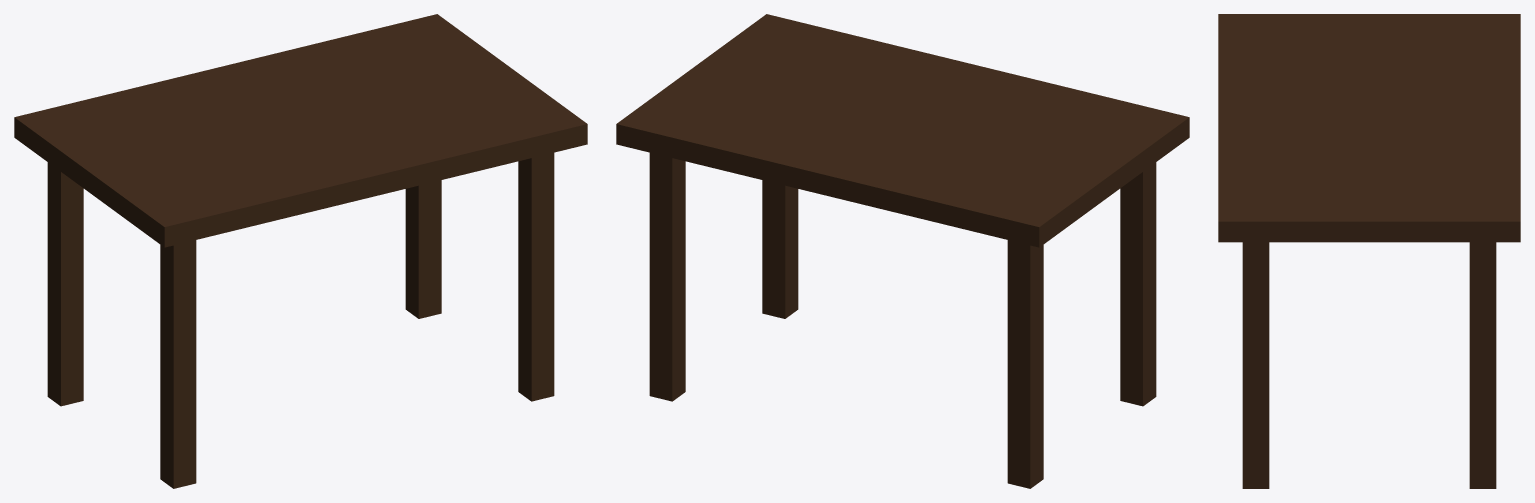
Rendered from ato2_mesa_casa.glb.
3 renders of one model, left to right at view 1: azimuth 30°, elevation 25°; view 2: azimuth 150°, elevation 25°; view 3: azimuth 270°, elevation 25°, orthographic.
Parts seen in each view (by area): view 1: Malha_0; view 2: Malha_0; view 3: Malha_0.
Part boxes in pixels (bbox=[...]): Malha_0: bbox=[14, 14, 587, 488]; Malha_0: bbox=[616, 14, 1189, 488]; Malha_0: bbox=[1218, 14, 1520, 488].
Size of the model in its own units: 1.3 by 0.81 by 0.8.
